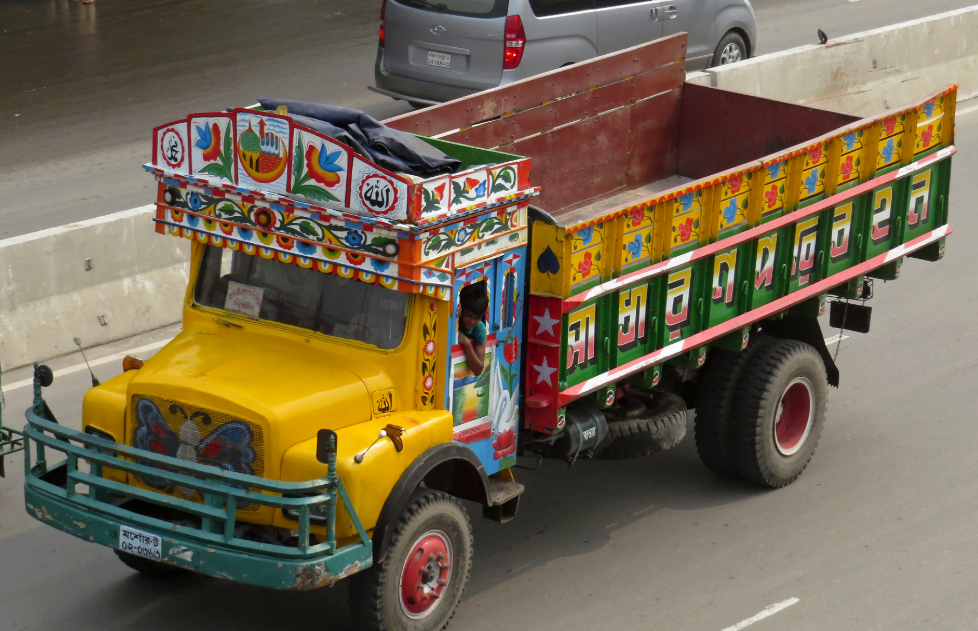Truck: (25, 34, 965, 631)
